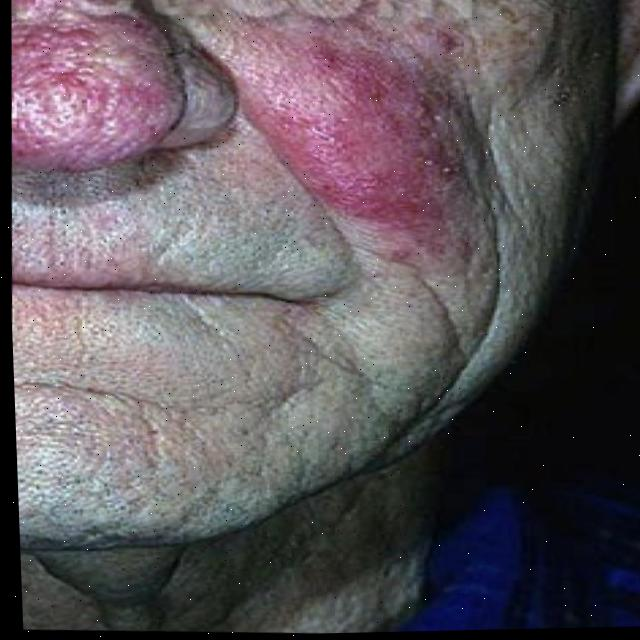Rosacea: (254, 36, 449, 231), (7, 0, 158, 115)
